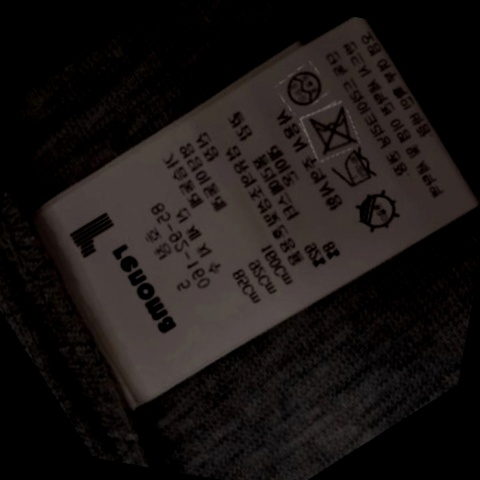DN_wash: (301, 105, 359, 156)
dry_clean_petrol_only: (280, 64, 326, 109)
iron_low: (330, 147, 382, 193)
line_dry_in_shade: (346, 188, 402, 235)
